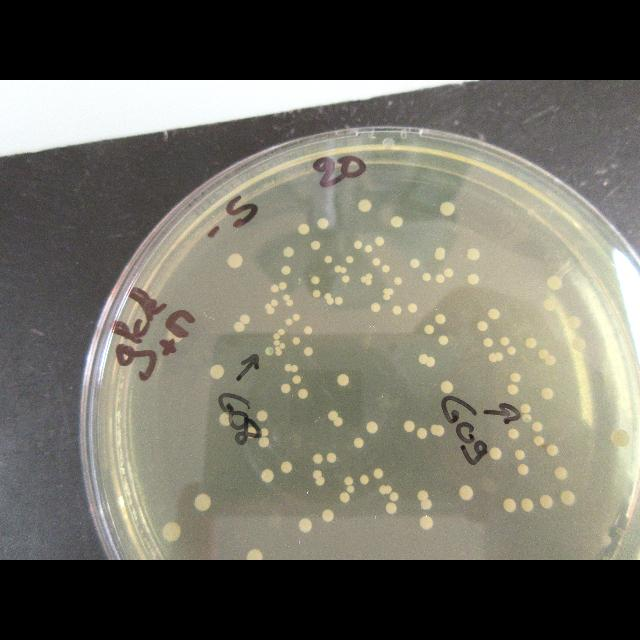colony: (162, 522, 181, 541), (194, 494, 211, 511), (611, 430, 629, 446), (459, 485, 474, 500), (440, 201, 455, 216), (228, 254, 242, 269), (420, 515, 434, 530), (561, 490, 575, 505), (210, 365, 224, 379), (548, 276, 562, 290), (571, 338, 586, 351), (299, 518, 312, 532), (440, 381, 454, 394), (246, 549, 262, 560), (261, 469, 274, 482), (358, 199, 371, 212), (390, 216, 404, 228), (540, 495, 552, 509), (366, 421, 378, 434), (385, 502, 398, 514), (541, 388, 554, 400), (504, 499, 516, 512), (521, 499, 534, 511), (546, 444, 559, 456), (555, 468, 568, 480), (568, 316, 580, 329), (219, 412, 230, 426), (430, 425, 444, 436), (322, 510, 334, 522), (468, 248, 480, 260), (544, 299, 556, 311), (489, 448, 501, 460), (281, 461, 292, 474), (256, 410, 268, 421), (259, 436, 270, 448), (338, 374, 349, 386), (404, 420, 415, 432), (416, 428, 428, 439), (420, 499, 432, 510), (298, 224, 310, 235), (488, 309, 500, 320), (379, 485, 392, 495), (234, 321, 245, 332), (328, 410, 339, 421), (418, 490, 429, 501), (318, 218, 329, 229), (468, 274, 479, 285), (508, 384, 519, 395), (525, 338, 536, 349), (518, 464, 529, 475), (435, 248, 445, 260), (240, 314, 250, 325), (298, 389, 309, 399), (340, 491, 350, 502), (265, 304, 275, 315), (435, 314, 446, 324), (419, 354, 429, 365), (510, 372, 521, 382), (520, 404, 531, 414), (545, 355, 556, 365), (426, 356, 435, 368), (312, 454, 322, 464), (326, 452, 336, 462), (315, 476, 325, 486), (354, 438, 364, 448), (374, 469, 384, 479), (284, 248, 294, 258), (410, 259, 420, 269), (435, 274, 445, 284), (424, 325, 434, 335), (439, 335, 449, 345), (478, 321, 488, 331), (515, 450, 525, 460), (509, 429, 519, 439), (532, 421, 542, 431), (534, 436, 544, 446), (539, 349, 549, 359), (325, 294, 334, 305), (281, 384, 290, 394), (312, 470, 322, 479), (360, 475, 369, 485), (344, 476, 354, 485), (390, 491, 399, 501), (281, 266, 291, 275), (375, 236, 384, 246), (371, 302, 380, 312), (392, 305, 401, 315), (444, 269, 454, 278), (292, 375, 301, 384), (265, 346, 274, 355), (346, 485, 355, 494), (279, 281, 288, 290), (311, 241, 320, 250), (311, 276, 320, 285), (422, 272, 431, 281), (408, 304, 418, 312), (484, 338, 492, 348), (292, 336, 300, 345), (304, 326, 312, 335), (312, 290, 321, 298), (334, 296, 342, 305), (508, 346, 516, 355), (522, 414, 531, 422), (275, 346, 282, 356), (364, 275, 371, 285), (384, 288, 394, 295), (500, 338, 510, 345), (489, 352, 496, 362), (334, 418, 342, 426), (304, 348, 312, 356), (346, 256, 354, 264), (354, 241, 362, 249), (341, 275, 350, 282), (382, 294, 391, 301), (495, 352, 502, 361), (261, 429, 269, 436), (291, 365, 299, 372), (292, 314, 300, 321), (271, 285, 279, 292), (325, 256, 332, 264), (282, 294, 290, 301), (324, 292, 331, 300), (372, 258, 380, 265), (382, 265, 390, 272), (394, 278, 402, 285), (284, 364, 291, 371), (271, 299, 278, 306), (334, 265, 341, 272), (365, 245, 372, 252), (274, 332, 280, 340), (286, 300, 294, 306), (285, 319, 292, 325), (278, 329, 285, 335), (279, 342, 285, 349), (365, 274, 372, 280), (361, 276, 366, 284), (274, 340, 280, 346), (340, 268, 346, 274)
